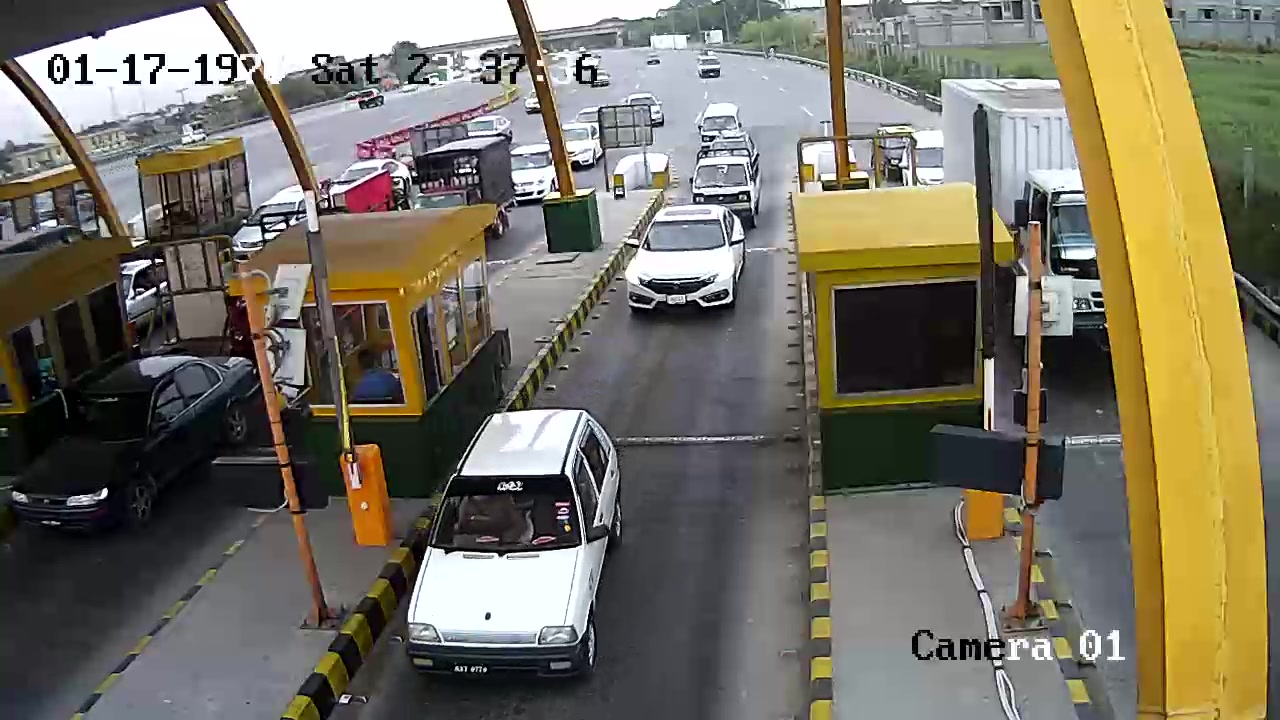F1: (400, 403, 633, 690), (616, 202, 755, 323)
